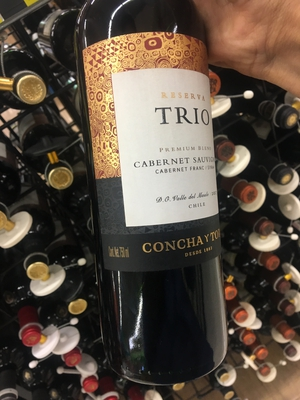trio cabernet sauvignon: (69, 10, 235, 361)
